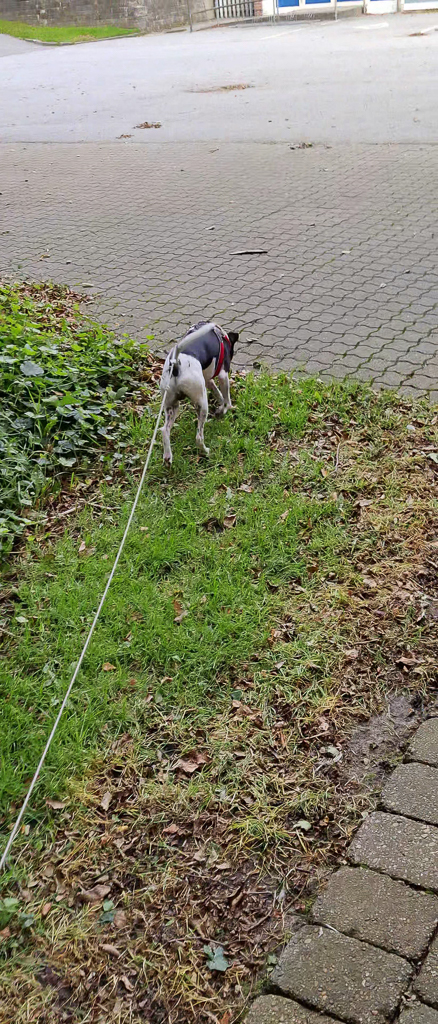Dog: (147, 314, 250, 479)
